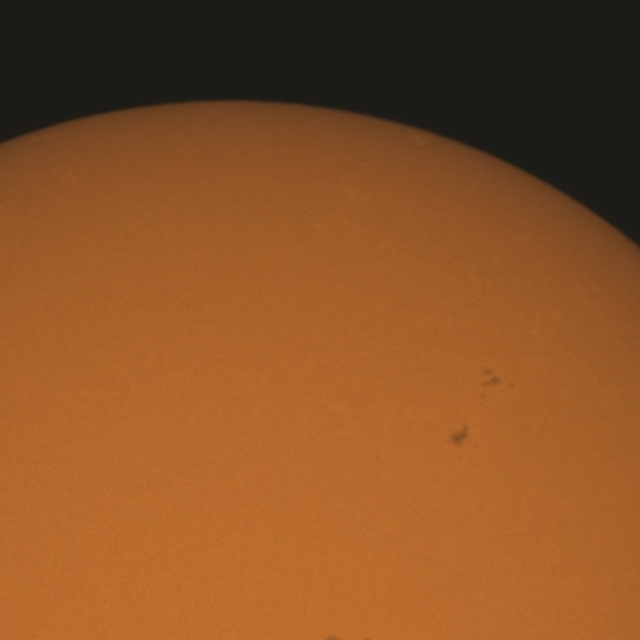sunspot: (480, 368, 501, 392), (450, 426, 470, 447)
